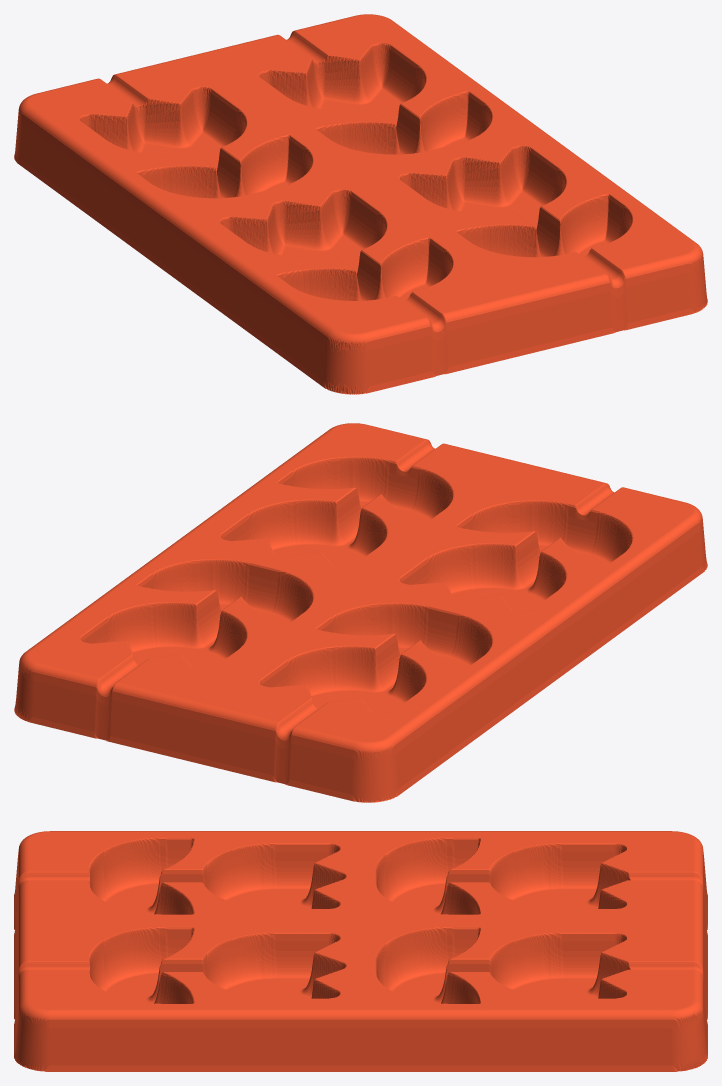
Rendered from mold.glb.
3 renders of one model, top to bottom at view 1: azimuth 30°, elevation 25°; view 2: azimuth 150°, elevation 25°; view 3: azimuth 270°, elevation 25°, orthographic. The views are drawn at different scales.
Visible parts, largest first — view 1: geometry_0; view 2: geometry_0; view 3: geometry_0.
Boxes of the visible parts, box(x1,y1,x2,y2) form: geometry_0: box(14, 14, 707, 394); geometry_0: box(14, 423, 707, 802); geometry_0: box(14, 831, 707, 1071).
Size of the model in its own units: 0.1122 by 0.0155 by 0.1735.
